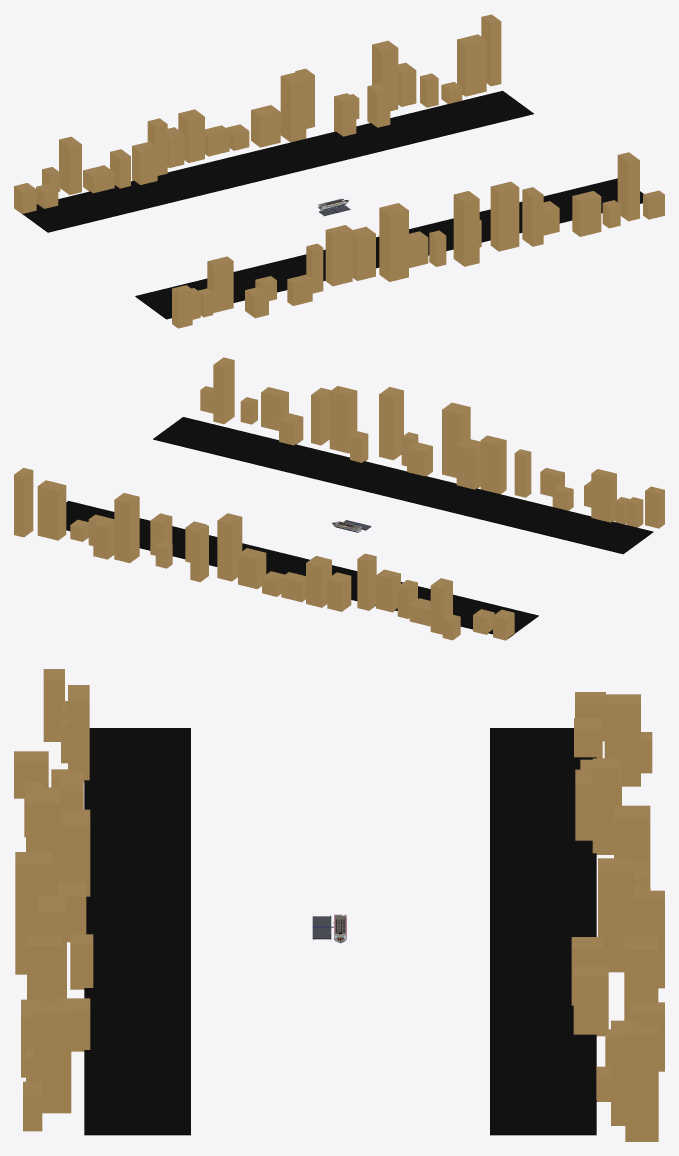
Rendered from boat.glb.
3 renders of one model, top to bottom at view 1: azimuth 30°, elevation 25°; view 2: azimuth 150°, elevation 25°; view 3: azimuth 270°, elevation 25°, orthographic. The views are drawn at different scales.
Parts seen in each view (by area): view 1: Skyline, Riverbanks; view 2: Skyline, Riverbanks; view 3: Riverbanks, Skyline.
Part boxes in pixels (left/top/right/bottom): Skyline: left=14, top=14, right=664, bottom=328; Riverbanks: left=23, top=90, right=643, bottom=319; Skyline: left=14, top=357, right=664, bottom=640; Riverbanks: left=66, top=417, right=653, bottom=637; Riverbanks: left=84, top=728, right=596, bottom=1135; Skyline: left=14, top=669, right=664, bottom=1141.
Size of the model in its own units: 913 by 120 by 610.
